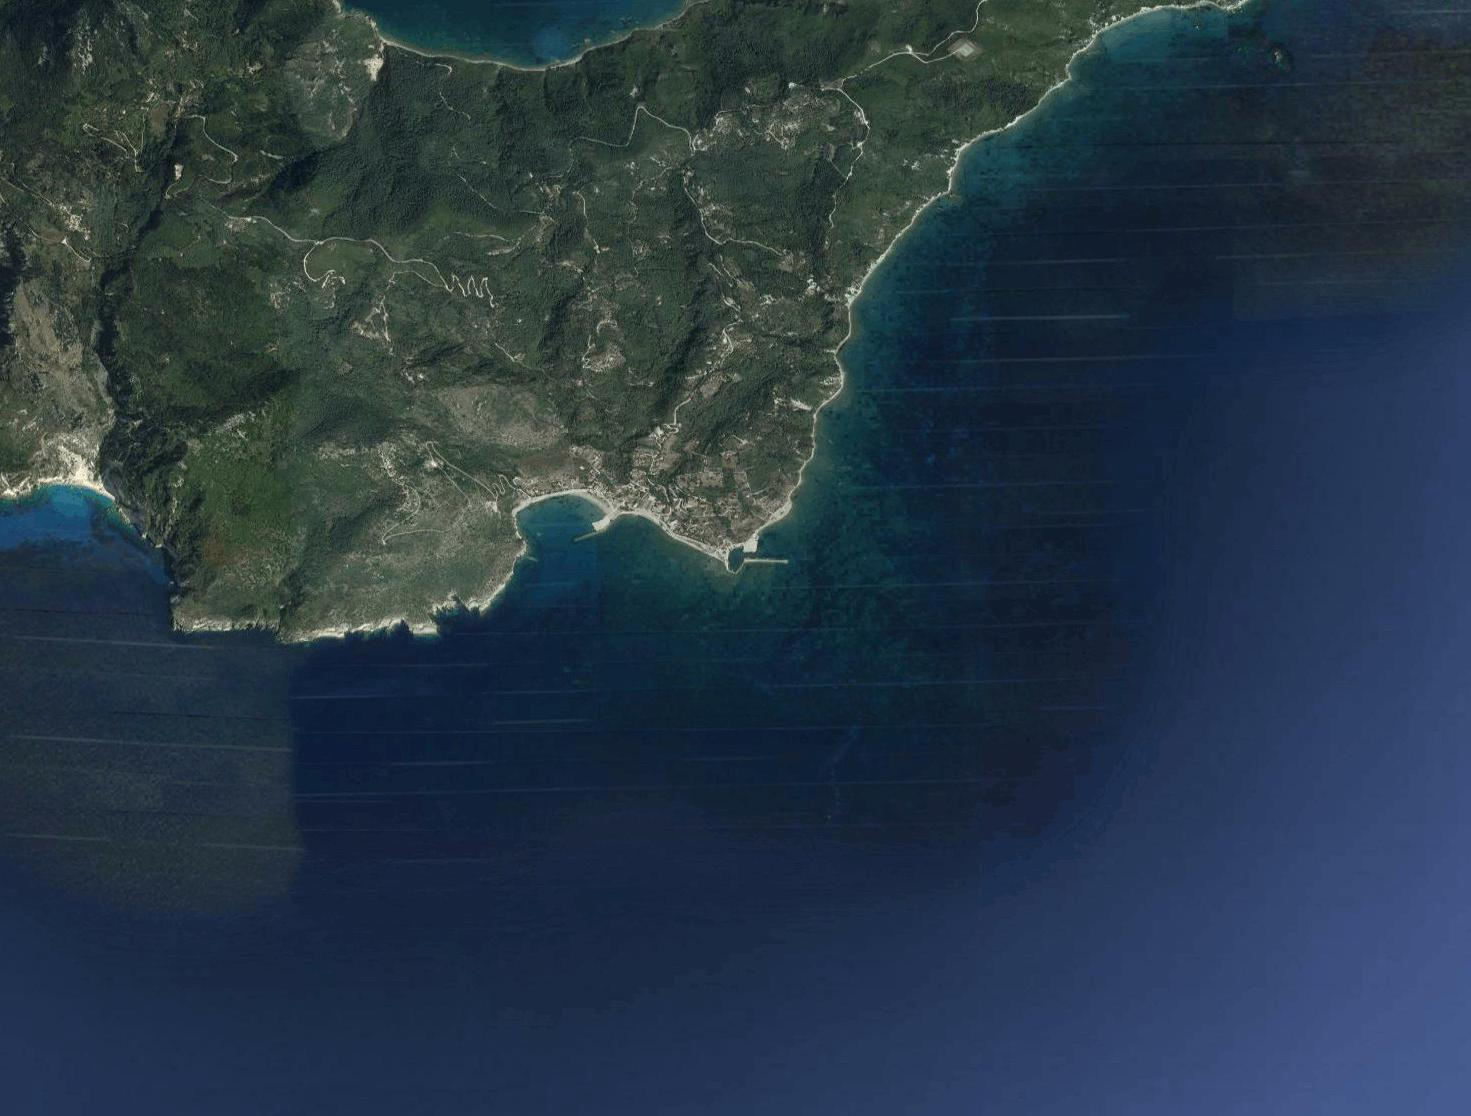harbor: (719, 537, 791, 577)
